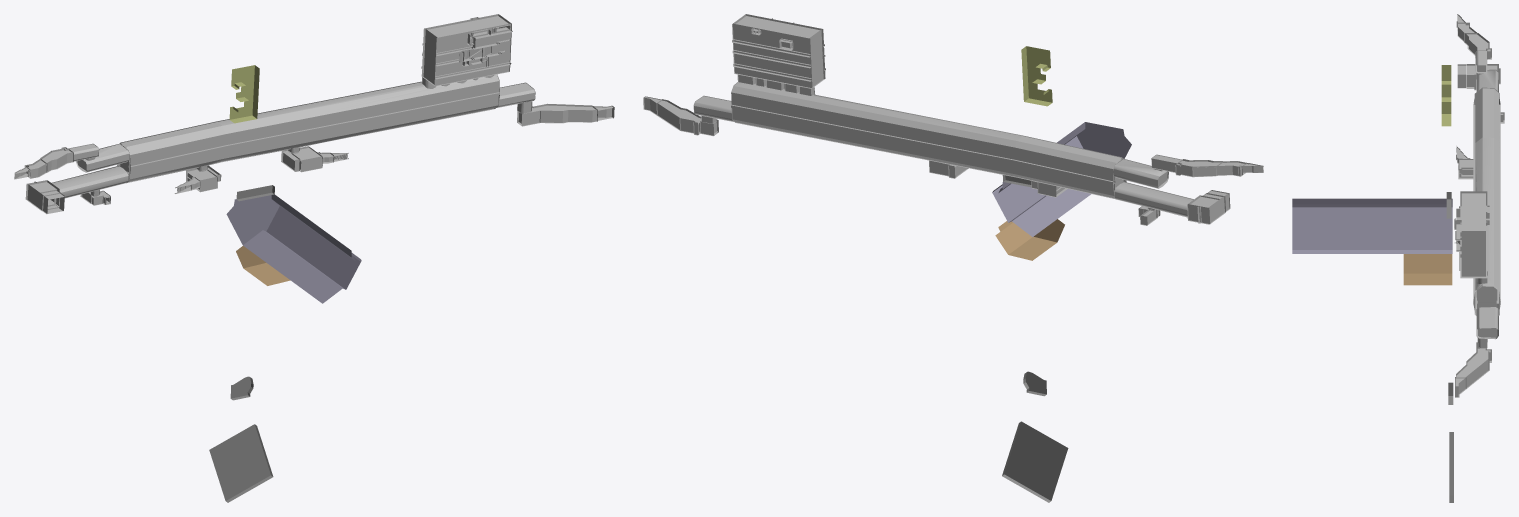
3 views of the same model, side by side, from view 1: azimuth 30°, elevation 25°; view 2: azimuth 150°, elevation 25°; view 3: azimuth 270°, elevation 25° (orthographic). The views are drawn at different scales.
Parts seen in each view (by area): view 1: 0_3_2_0_1; view 2: 0_3_2_0_1; view 3: 0_3_2_0_1.
Boxes of the visible parts, <box> form: 0_3_2_0_1: <box>14,14,614,502</box>; 0_3_2_0_1: <box>643,14,1263,502</box>; 0_3_2_0_1: <box>1292,14,1504,502</box>.
Bounding box in the file's own units: 429 × 295 × 131.
